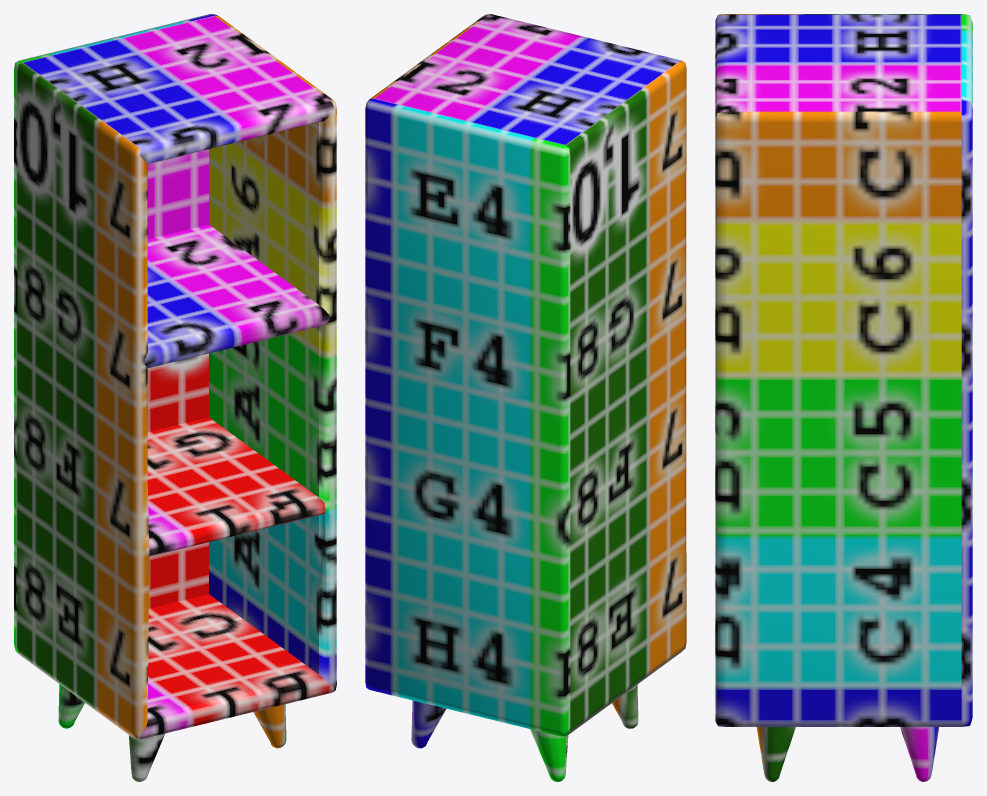
File: Bookshelf_Skinny.fbx
The picture shows the model from 3 angles, left to right: view 1: azimuth 30°, elevation 25°; view 2: azimuth 150°, elevation 25°; view 3: azimuth 270°, elevation 25°; orthographic projection. The views are drawn at different scales.
Parts seen in each view (by area): view 1: Bookshelf Skinny; view 2: Bookshelf Skinny; view 3: Bookshelf Skinny.
Part boxes in pixels (bbox=[...]): Bookshelf Skinny: bbox=[14, 14, 336, 781]; Bookshelf Skinny: bbox=[365, 14, 686, 781]; Bookshelf Skinny: bbox=[715, 14, 972, 781].
Bounding box in the file's own units: 32.03 × 33.95 × 99.54.
1 material, 1 textured.
